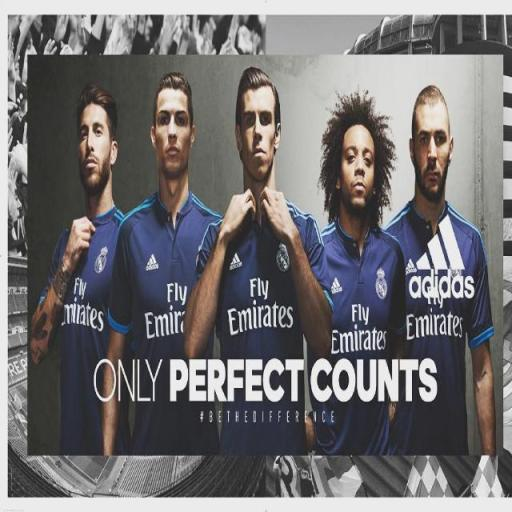Adidas: (407, 210, 477, 304), (228, 250, 244, 274), (145, 252, 161, 274), (403, 255, 418, 278), (329, 274, 344, 296)
Emirates: (226, 277, 294, 338), (404, 288, 463, 344), (330, 300, 386, 352), (58, 276, 107, 333), (145, 282, 189, 340)
